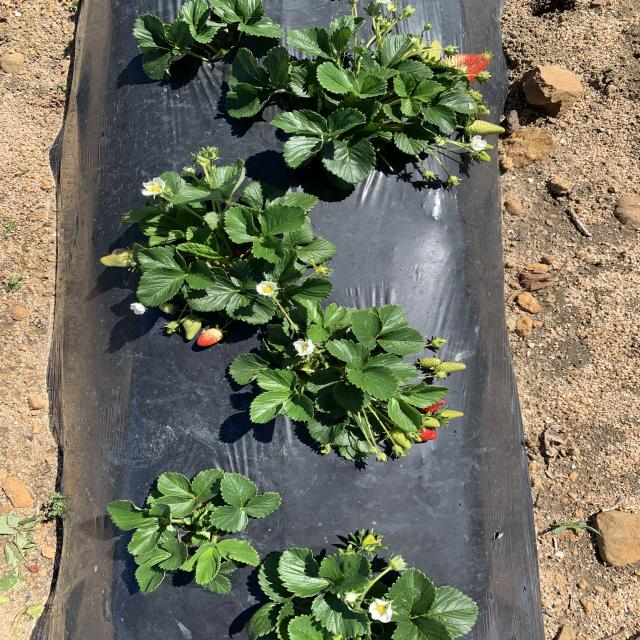unripe: (441, 51, 493, 82), (409, 394, 446, 413), (404, 423, 440, 441)
